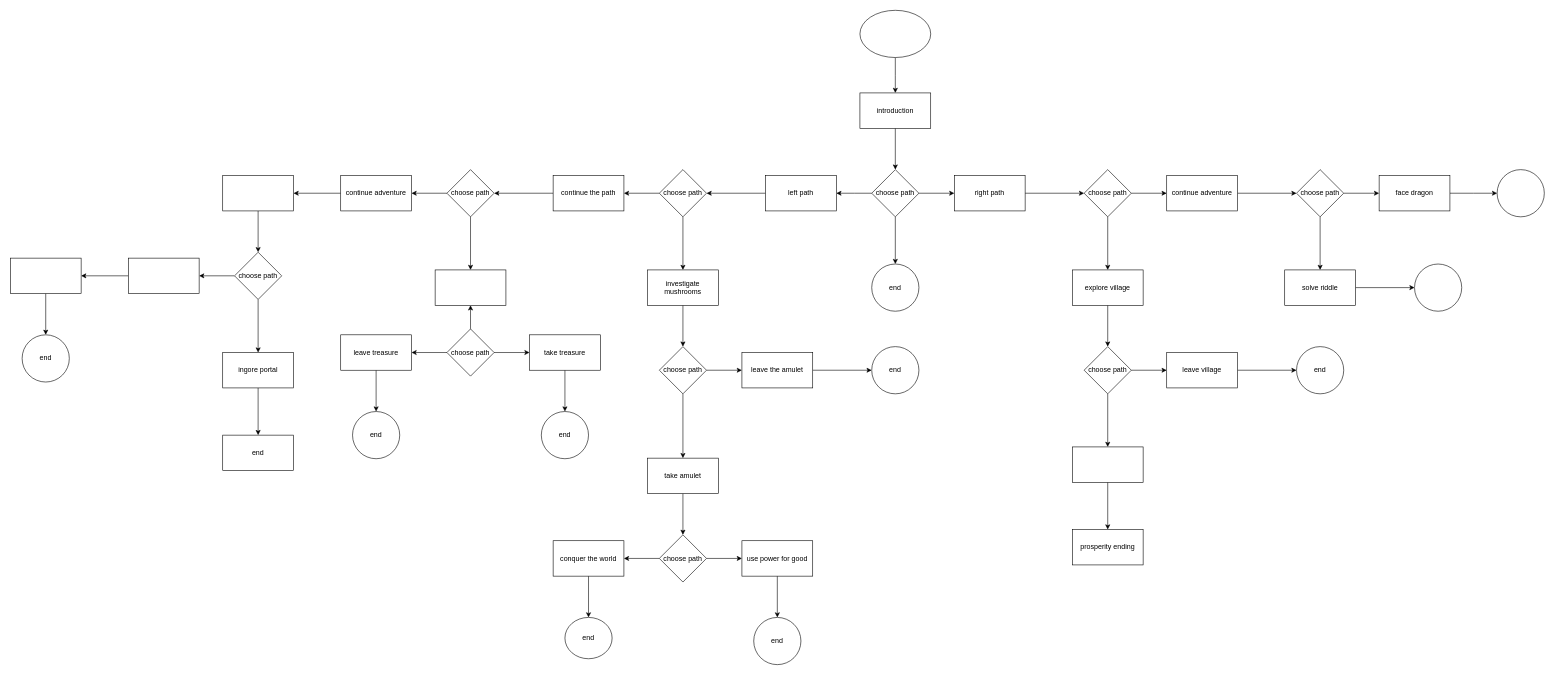
This 1555x675 diagram has some shape labels left out. The centre of each missing label's shape, as x and y in pixels:
"dragon slayer ending" belongs at pixel 1520 193.
"enter portal" belongs at pixel 163 276.
"explore new world" belongs at pixel 45 276.
"find portal" belongs at pixel 258 193.
"help village" belongs at pixel 1107 464.
"scholar ending" belongs at pixel 1438 287.
"start" belongs at pixel 895 34.
"stay in the house" belongs at pixel 470 287.
